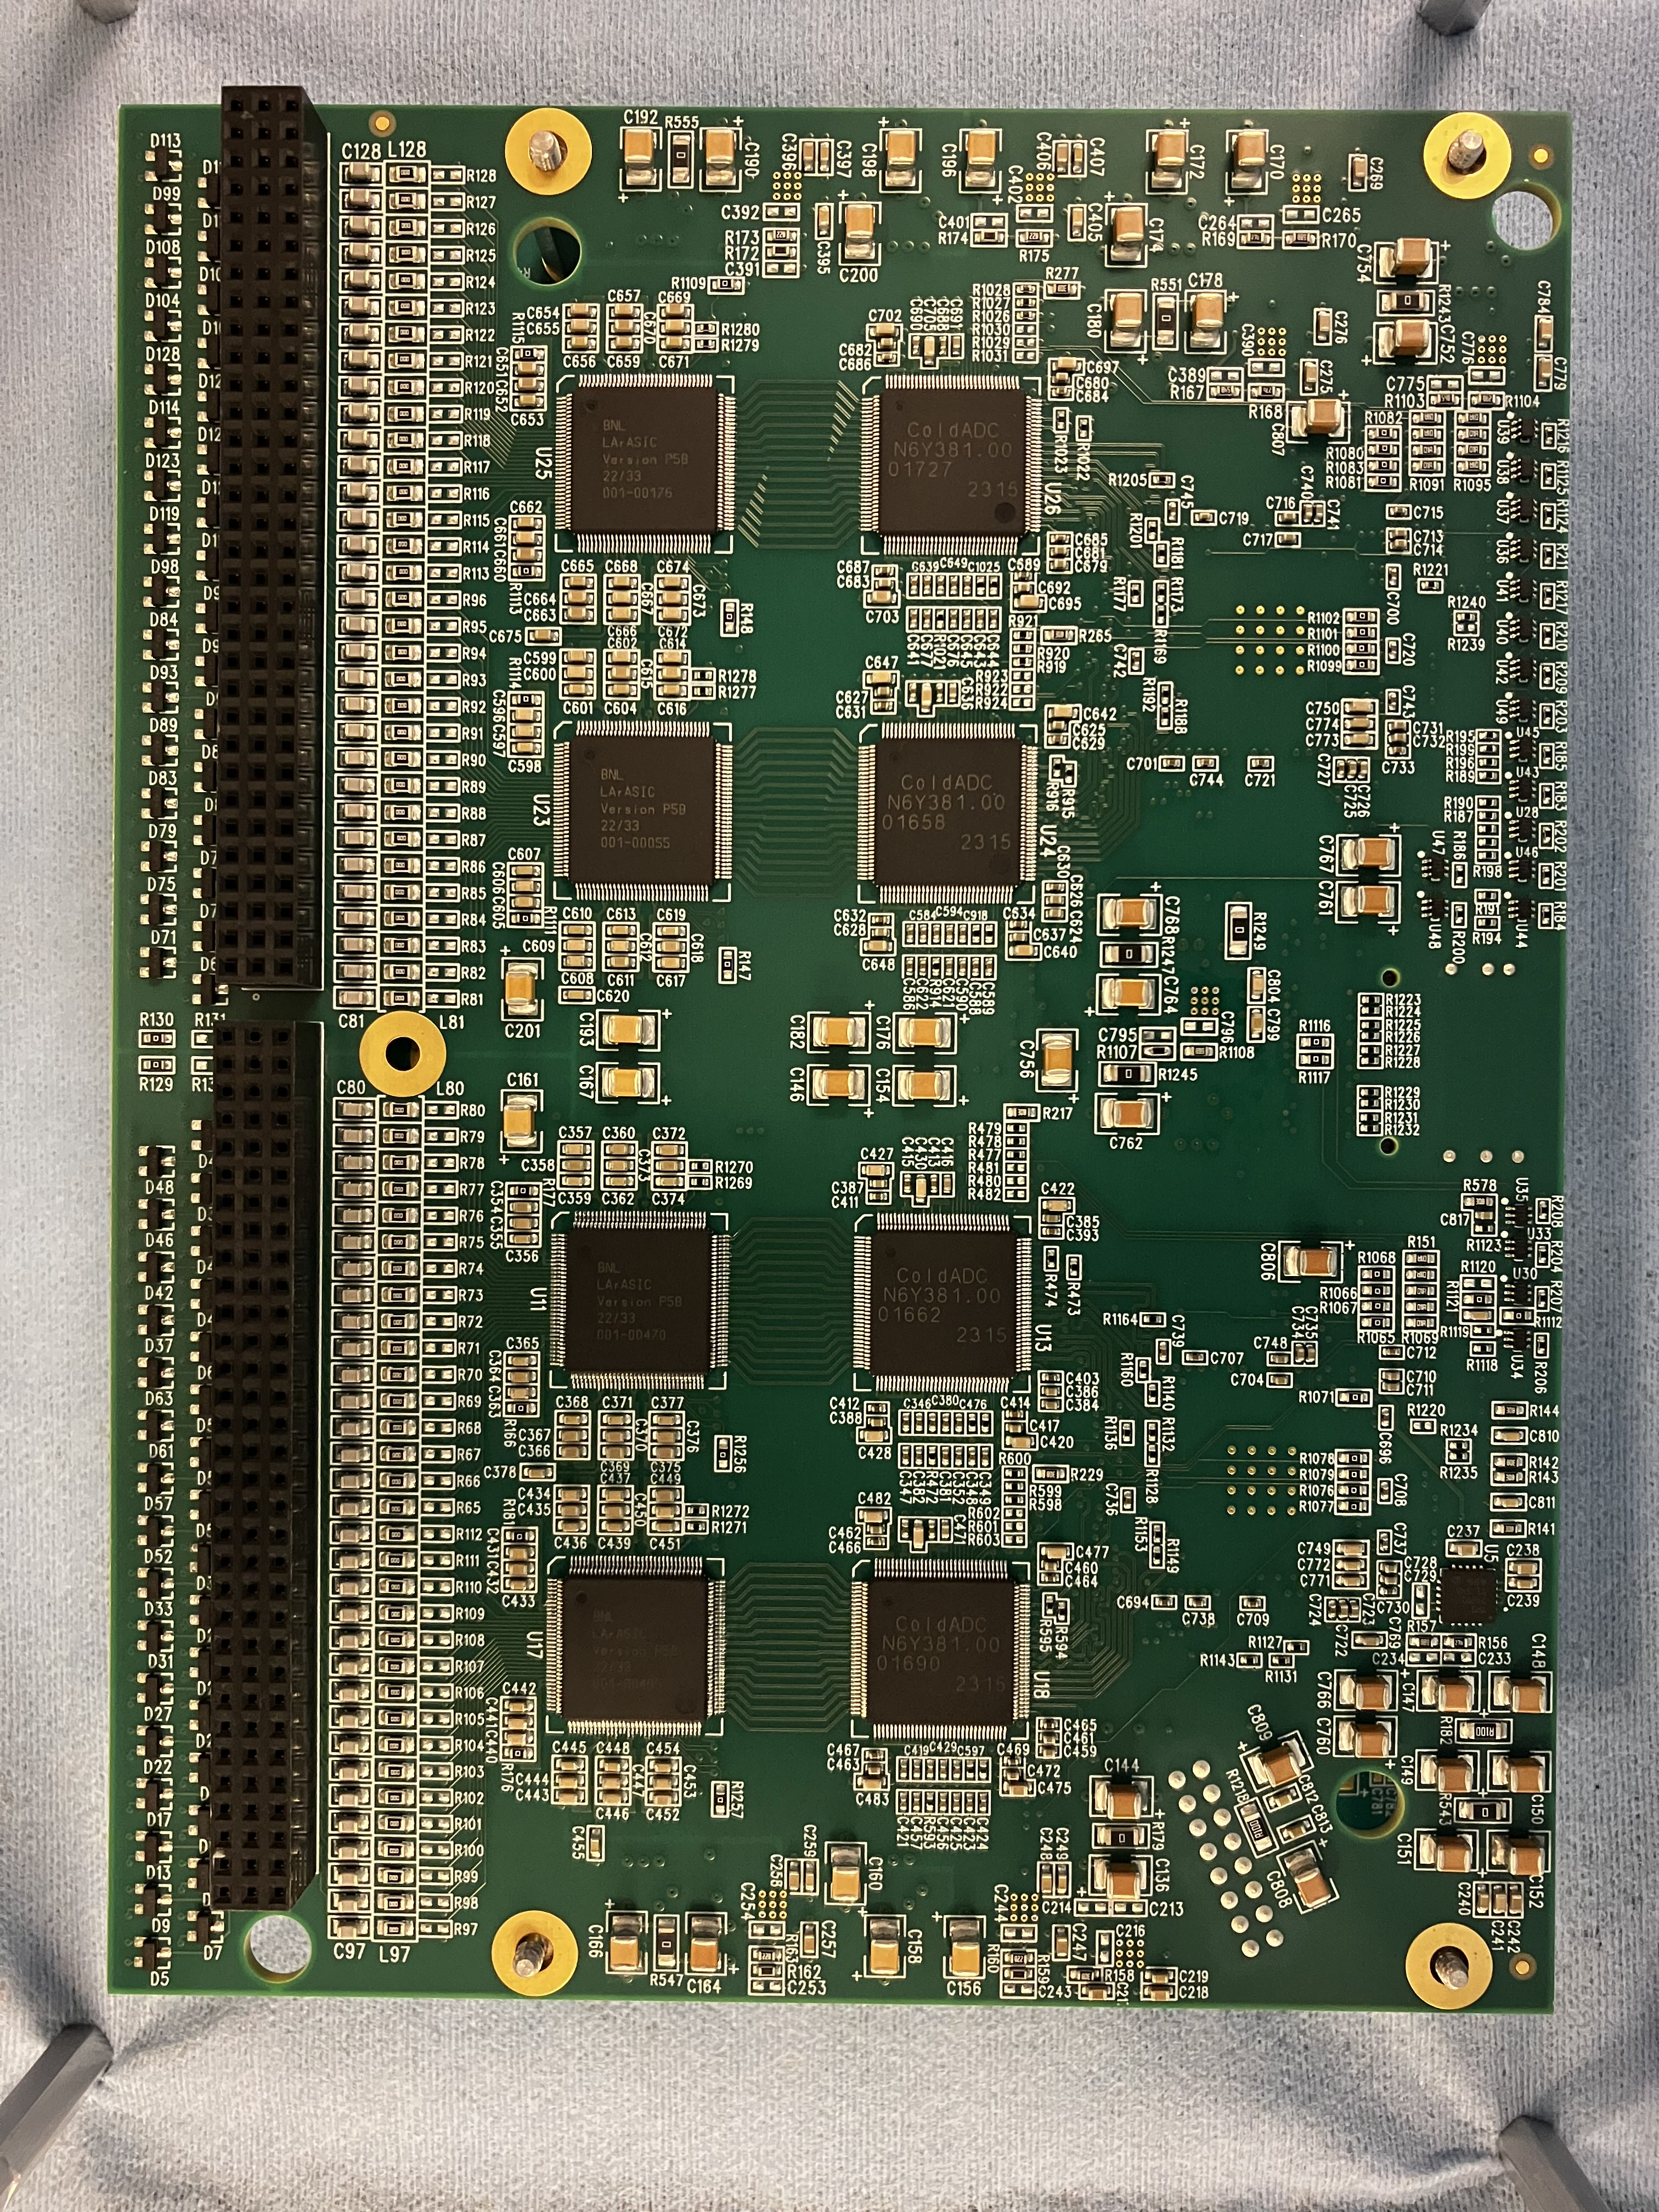chip: (878, 387, 1026, 538), (565, 1226, 713, 1378), (572, 383, 718, 536), (561, 1573, 709, 1723), (866, 1576, 1014, 1726), (570, 737, 716, 888), (873, 737, 1019, 888), (870, 1230, 1016, 1381)
